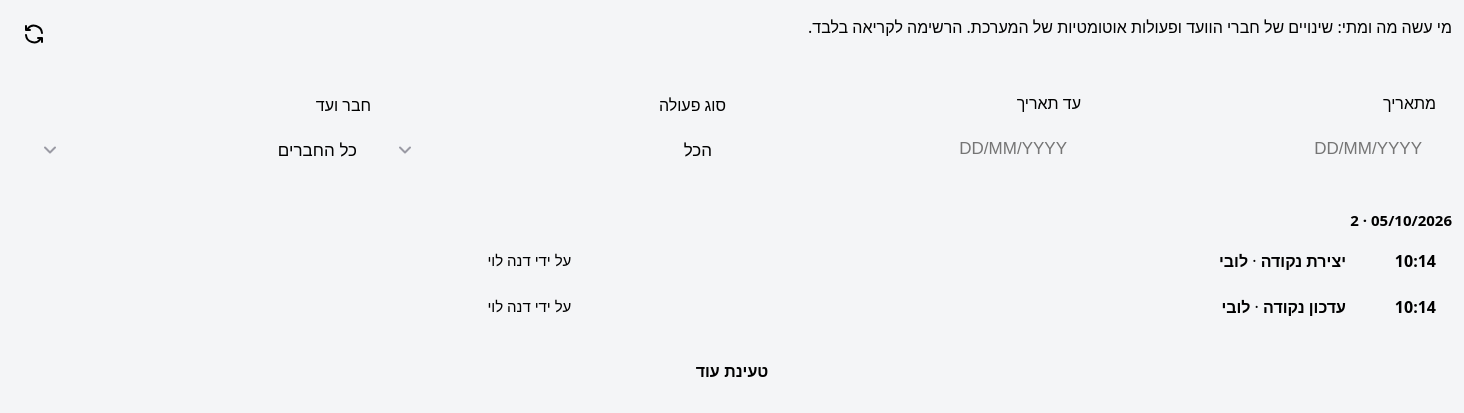
Test: paging › loads the next page with the cursor, adds it below, and the button goes when there is no more
This screenshot has width=1464, height=413.
Expected: the text "יצירת נקודה" is shown, [1261,250,1346,272]
Expected: the text "מחיקת נקודה" is not shown
Step 1. Click the button "טעינת עוד" → [732, 372], box [678,348,786,396]
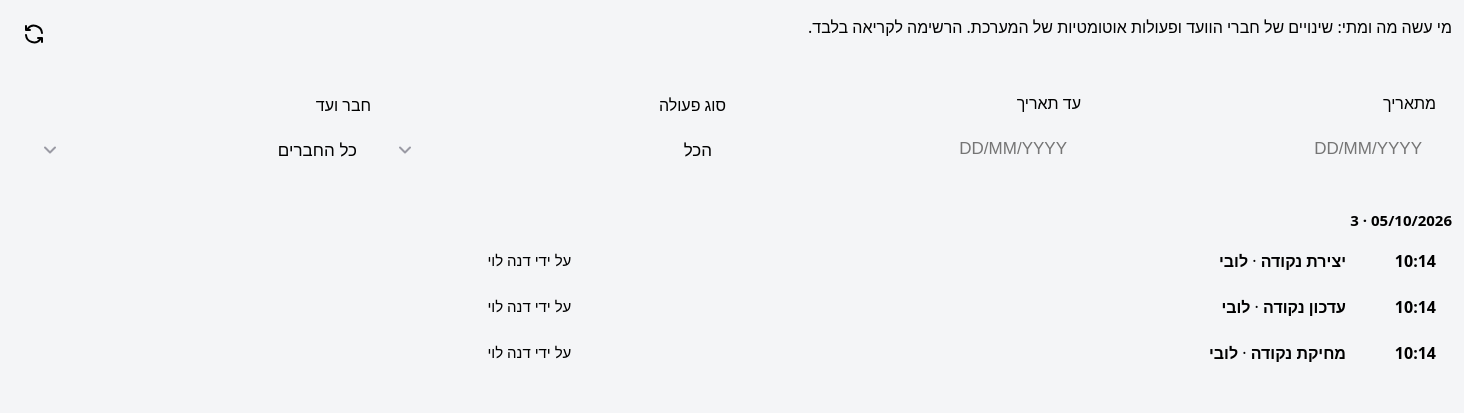
Expected: the text "יצירת נקודה" is shown, [1261,250,1346,272]
Expected: the text "מחיקת נקודה" is shown, [1251,342,1346,364]
Expected: the button "טעינת עוד" is gone
